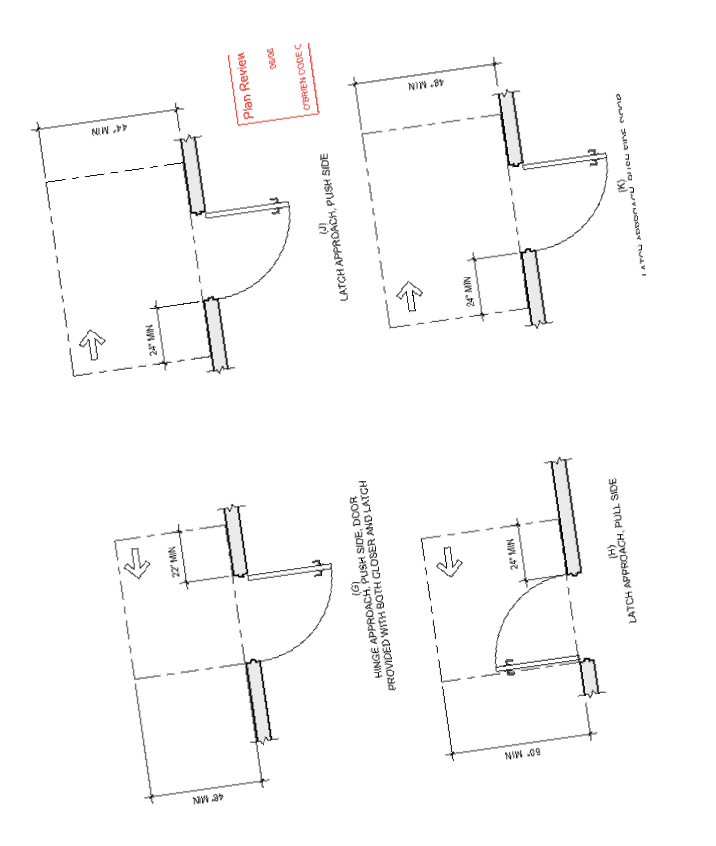door: (483, 568, 601, 672), (184, 193, 292, 303), (231, 555, 338, 664), (506, 148, 610, 257)
